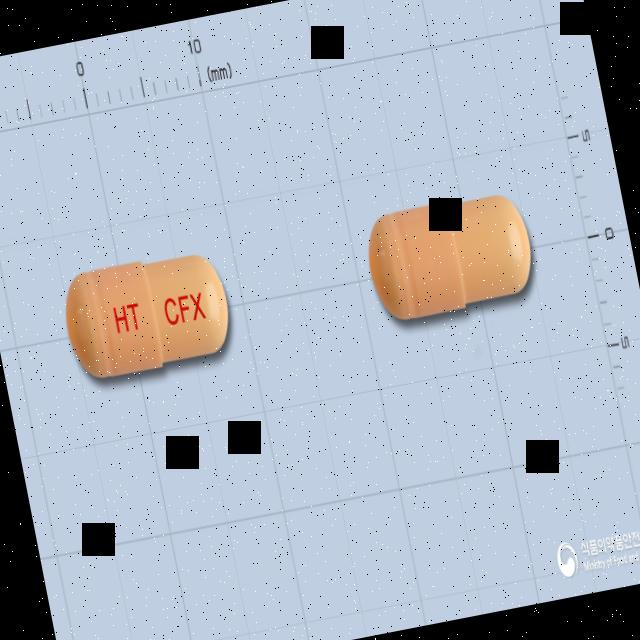Cefaxime Cap: (51, 237, 244, 399)
